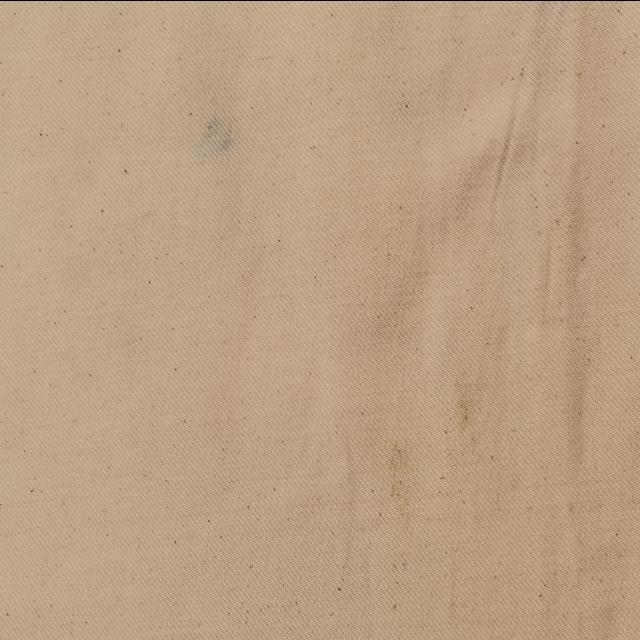taaaches: (192, 107, 242, 166), (388, 434, 414, 524)
